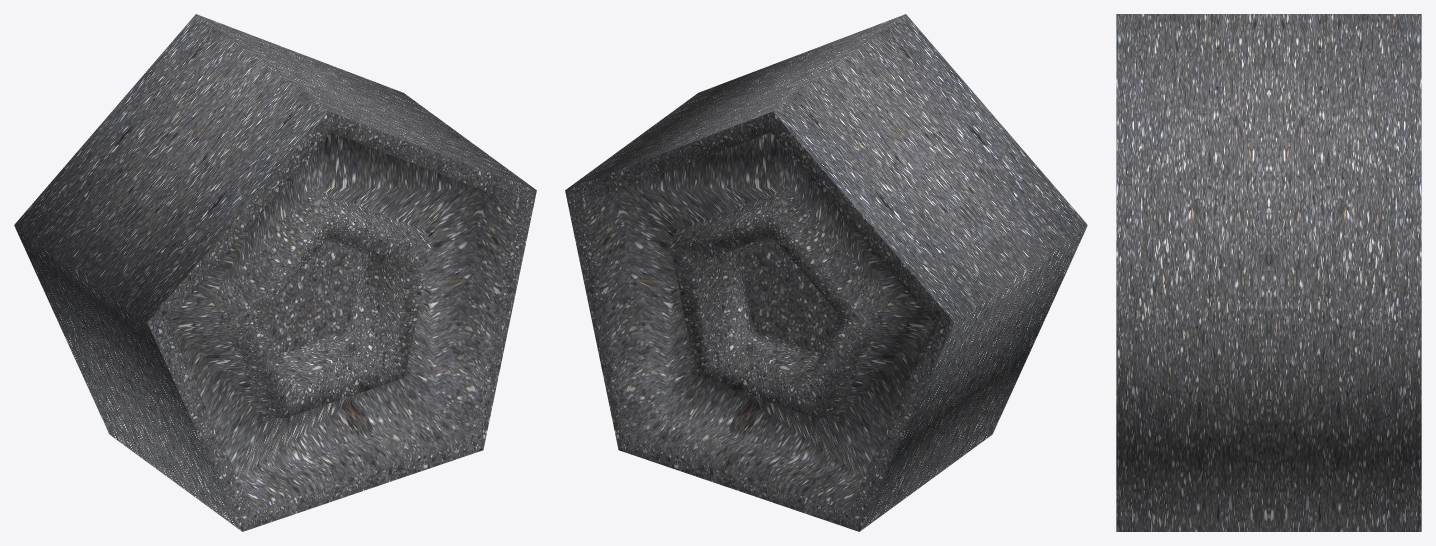
The model's file is flower2.obj.
The picture shows the model from 3 angles, left to right: view 1: azimuth 30°, elevation 25°; view 2: azimuth 150°, elevation 25°; view 3: azimuth 270°, elevation 25°; orthographic projection. The views are drawn at different scales.
Visible parts, largest first — view 1: Cylinder001; view 2: Cylinder001; view 3: Cylinder001.
Part boxes in pixels (x1,y1,x2,y2): Cylinder001: (14, 14, 536, 531); Cylinder001: (565, 14, 1087, 531); Cylinder001: (1116, 14, 1421, 531).
Bounding box in the file's own units: 10.11 × 9.9 × 5.98.
